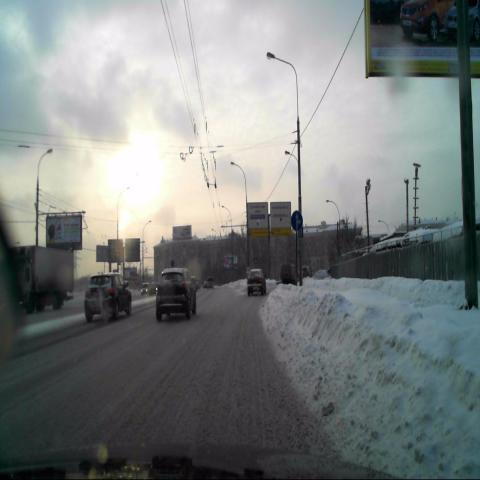4_1_4: (290, 209, 301, 230)
